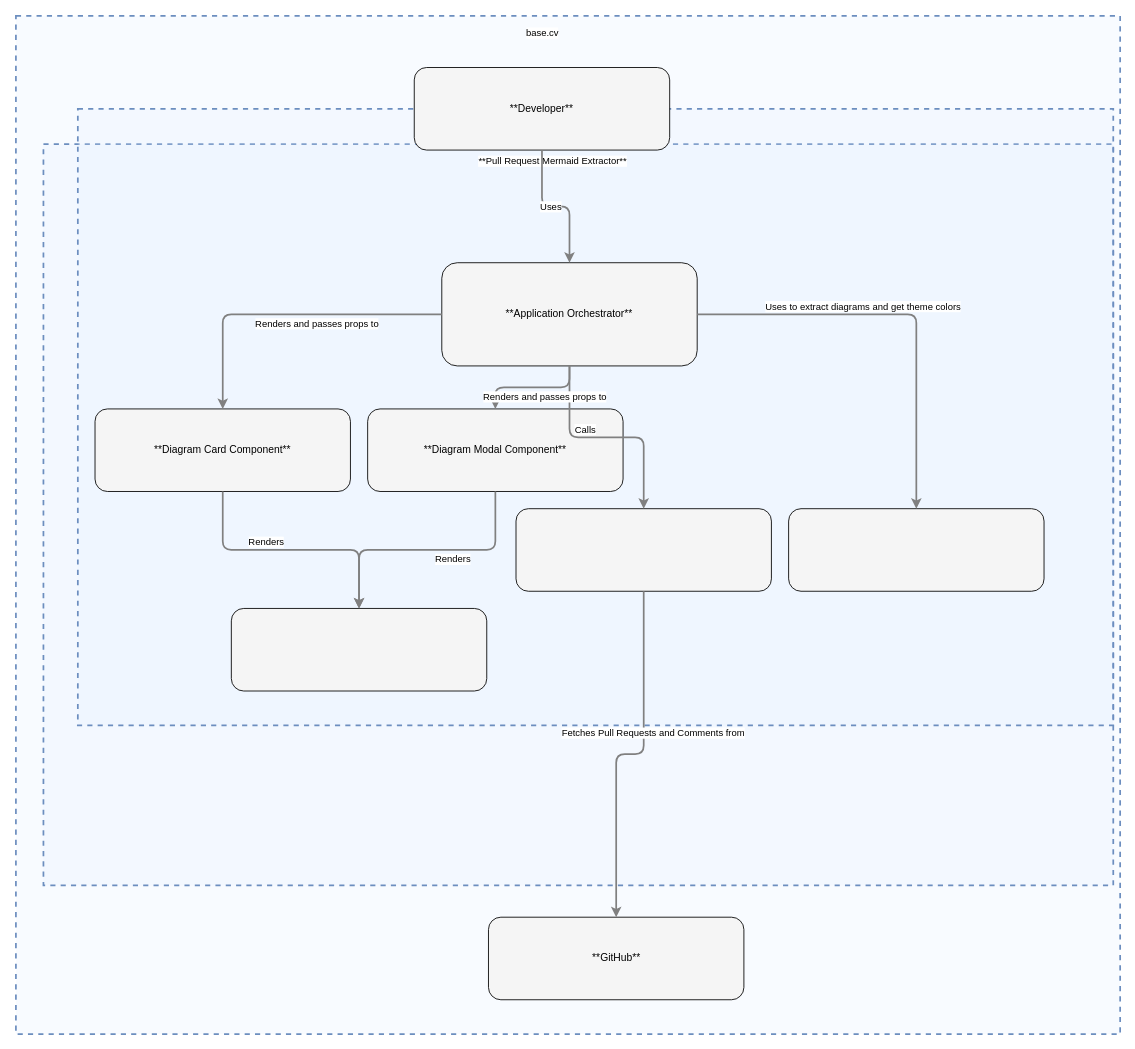
This 1135x1049 diagram has some shape labels left out. The shapes that lost their labels are listed below. From the top down, each one's box as (x1, y1, x2, y2) in pixels, then its label:
(515, 508, 771, 591): **GitHub Service Client**
(788, 508, 1044, 591): **Diagram Parsing Utility**
(230, 608, 487, 691): **Mermaid Renderer Component**
